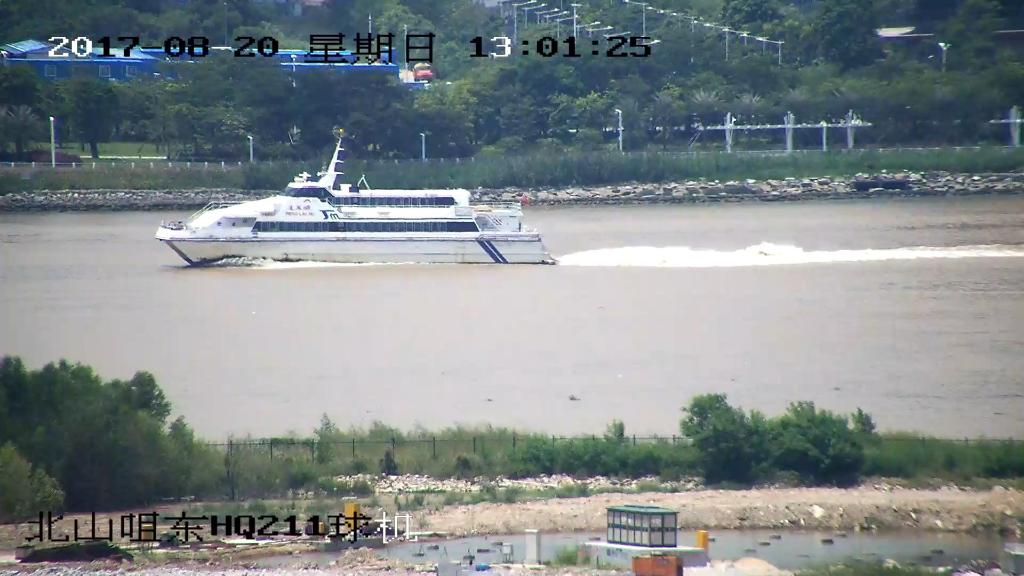PassengerShip: (154, 145, 560, 270)
